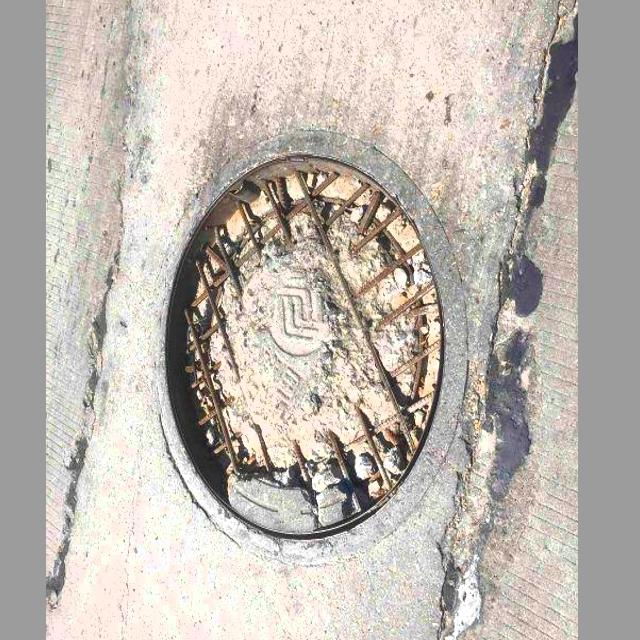broke: (138, 135, 486, 554)
